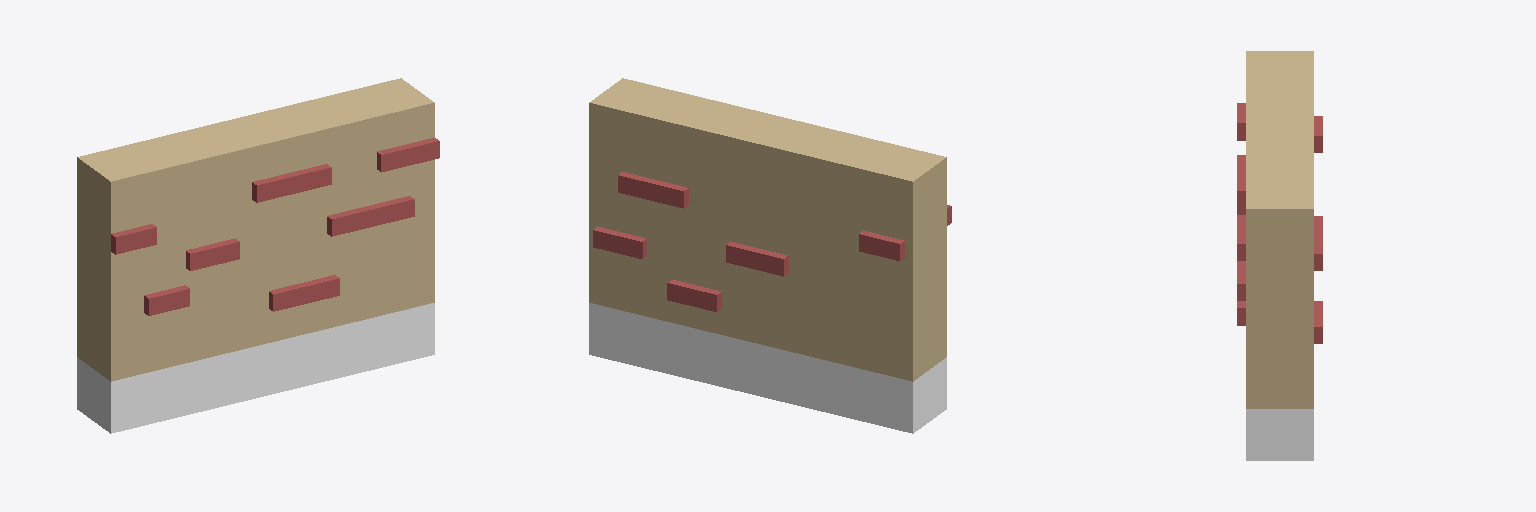
3 views of the same model, side by side, from view 1: azimuth 30°, elevation 25°; view 2: azimuth 150°, elevation 25°; view 3: azimuth 270°, elevation 25° (orthographic).
Parts seen in each view (by area): view 1: object 1; view 2: object 1; view 3: object 1.
Part boxes in pixels (left/top/right/bottom): object 1: left=77, top=78, right=439, bottom=433; object 1: left=589, top=78, right=951, bottom=433; object 1: left=1237, top=51, right=1322, bottom=460.
Bounding box in the file's own units: 3.9 × 2.9 × 0.9.
Materials: 1 (1 with a texture image).